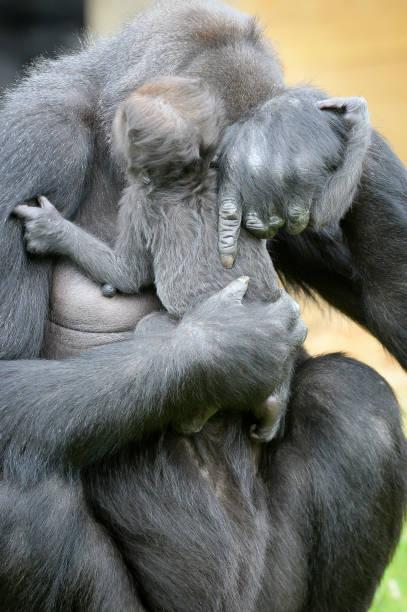gorille_Autres: (3, 0, 407, 604)
